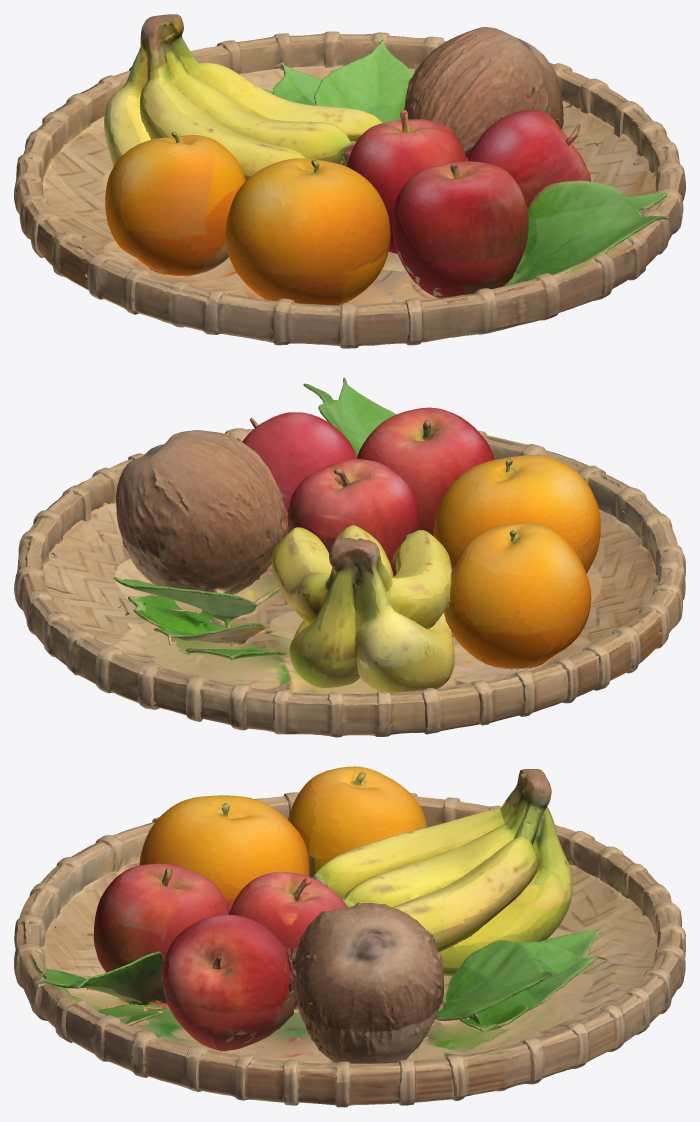
The model's file is soop.glb.
3 views of the same model, one above another, from view 1: azimuth 30°, elevation 25°; view 2: azimuth 150°, elevation 25°; view 3: azimuth 270°, elevation 25° (orthographic).
Parts seen in each view (by area): view 1: geometry_0; view 2: geometry_0; view 3: geometry_0.
Part boxes in pixels (x1,y1,x2,y2): geometry_0: (14,14,685,348); geometry_0: (14,377,685,737); geometry_0: (14,766,685,1107).
Bounding box in the file's own units: 0.35 × 0.109 × 0.3496.
1 material, 1 textured.
